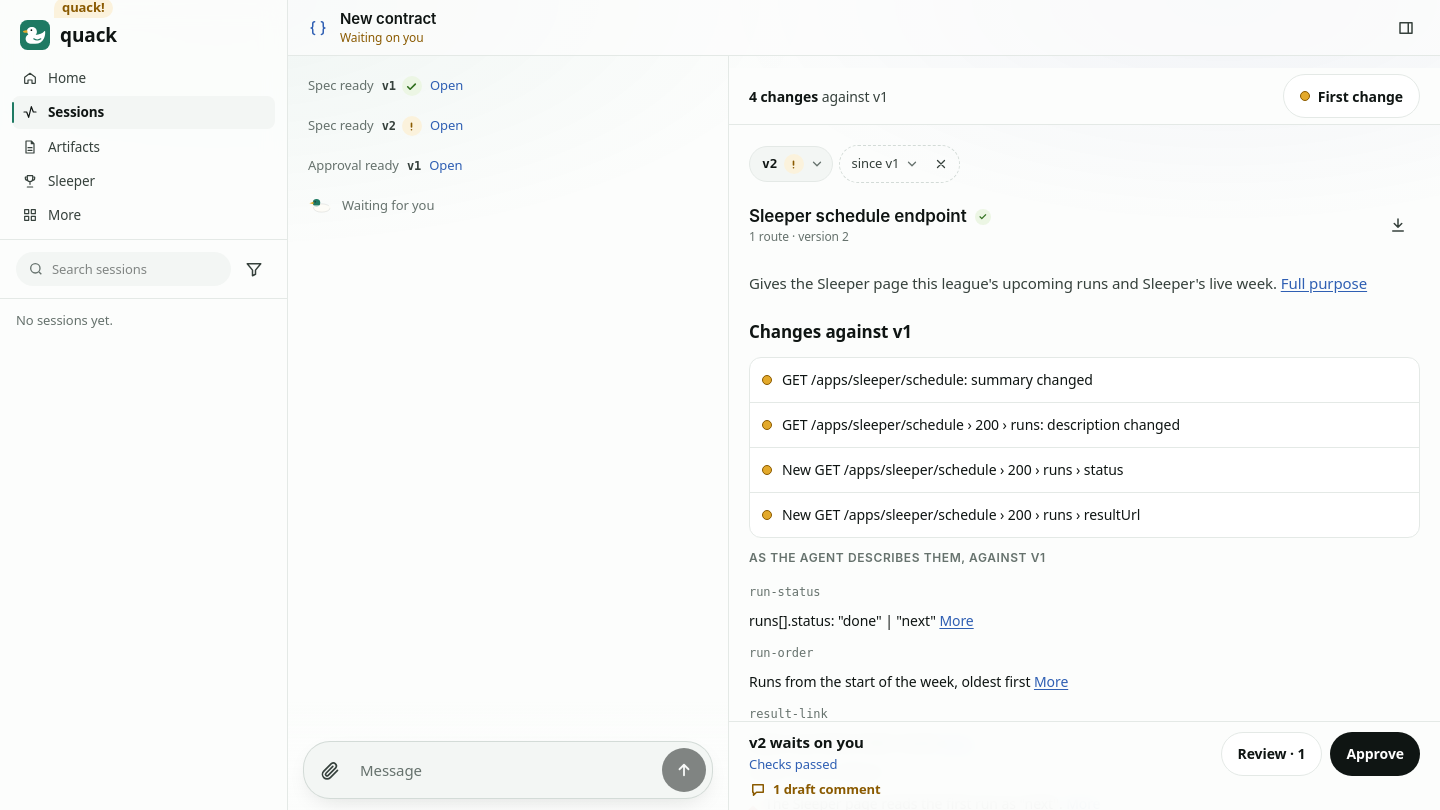
Test: a 400 from prepare is said in the sheet, and nothing is rejected
Expected: the element named "Approval" shows "1 draft", [729,721,1439,809]
Click the button "Review · 1". click: click(1271, 754)
box: [1220,732,1322,776]
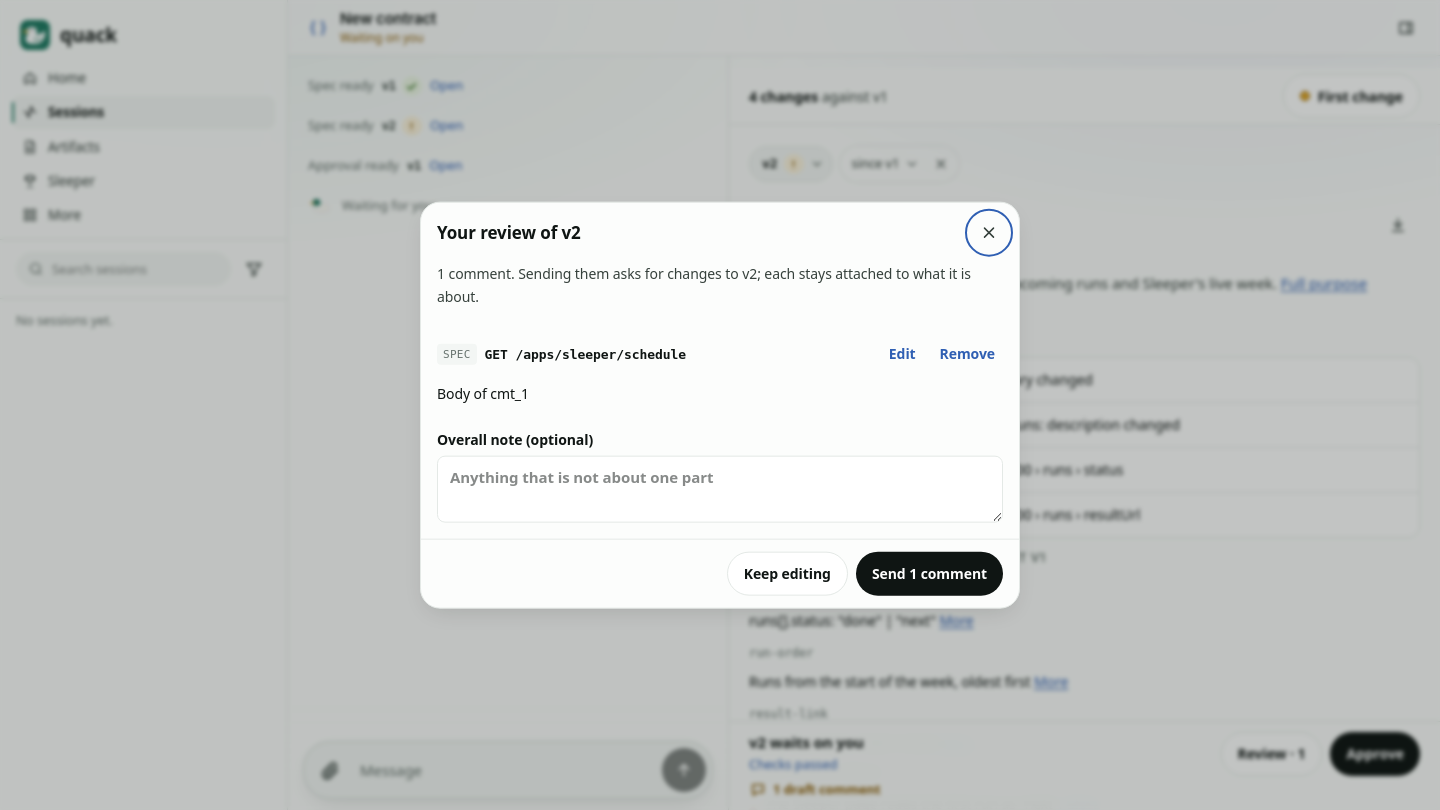
Click the button "Send 1 comment". click: click(929, 573)
box: [856,551,1003,595]
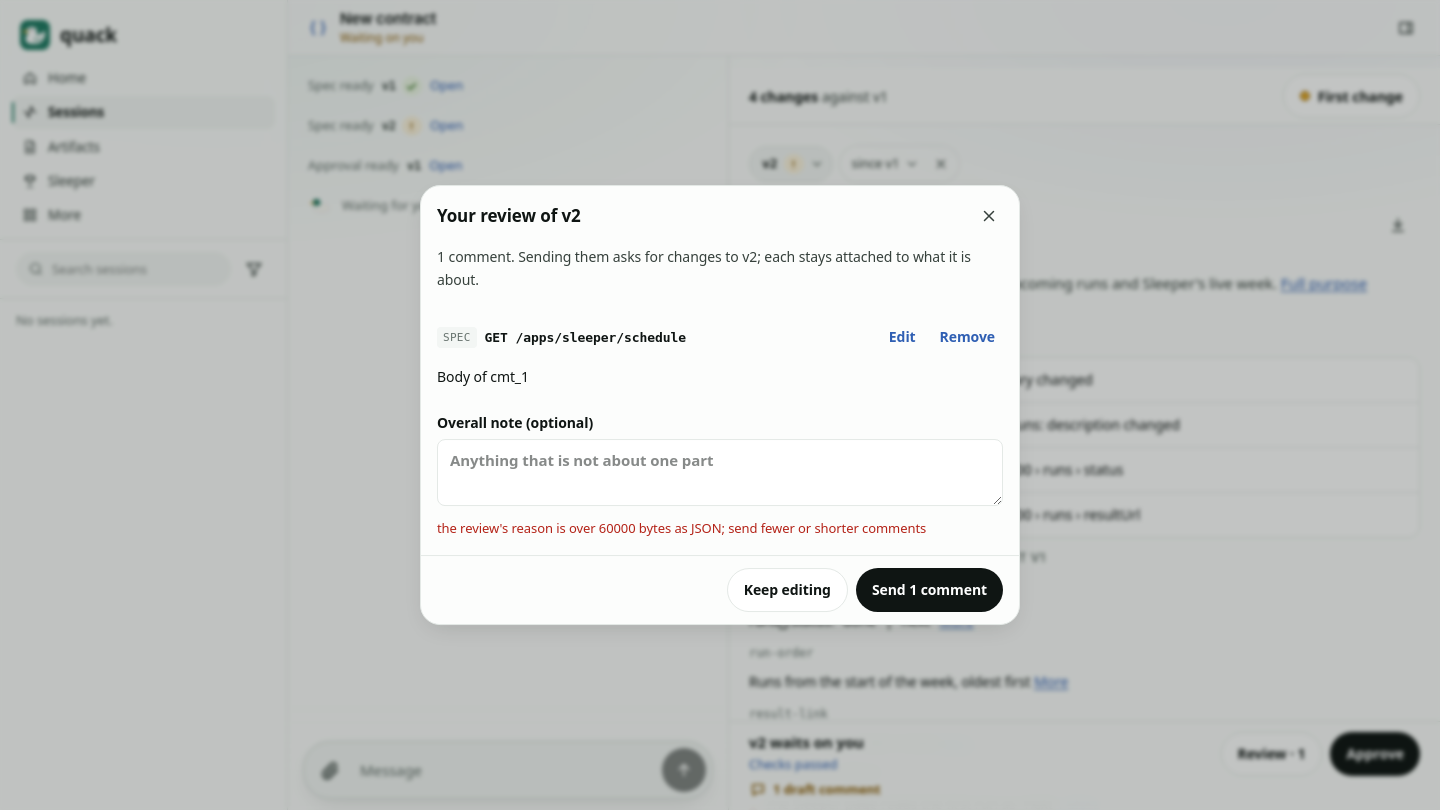
Now the message shows "the review's reason is over 60000 bytes as JSON", box [437,519,926,537]
